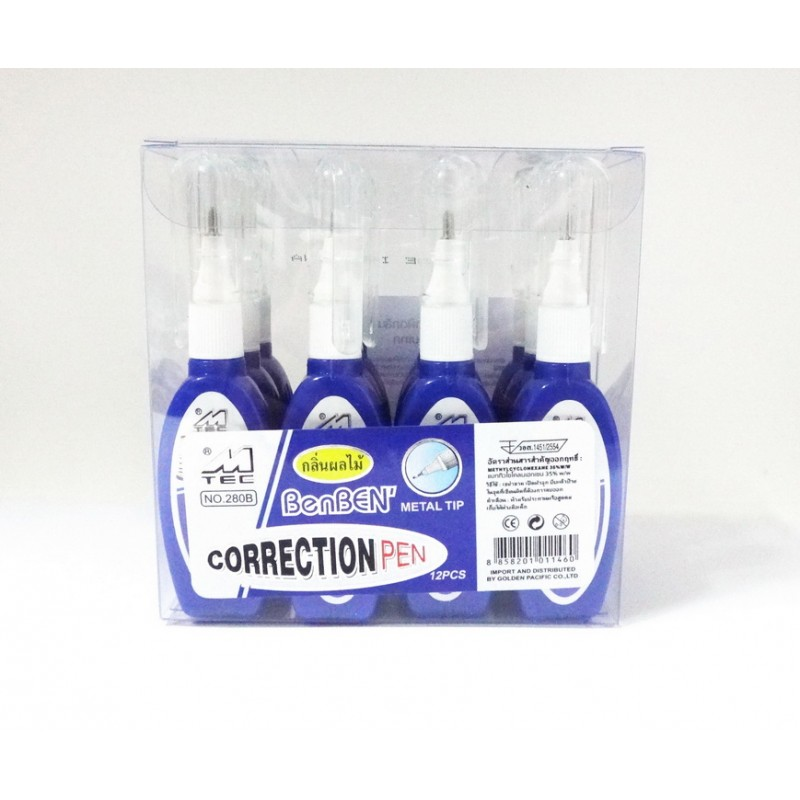Correction_fluid: (153, 149, 267, 629), (388, 162, 503, 623), (511, 164, 625, 625), (274, 161, 385, 625)
